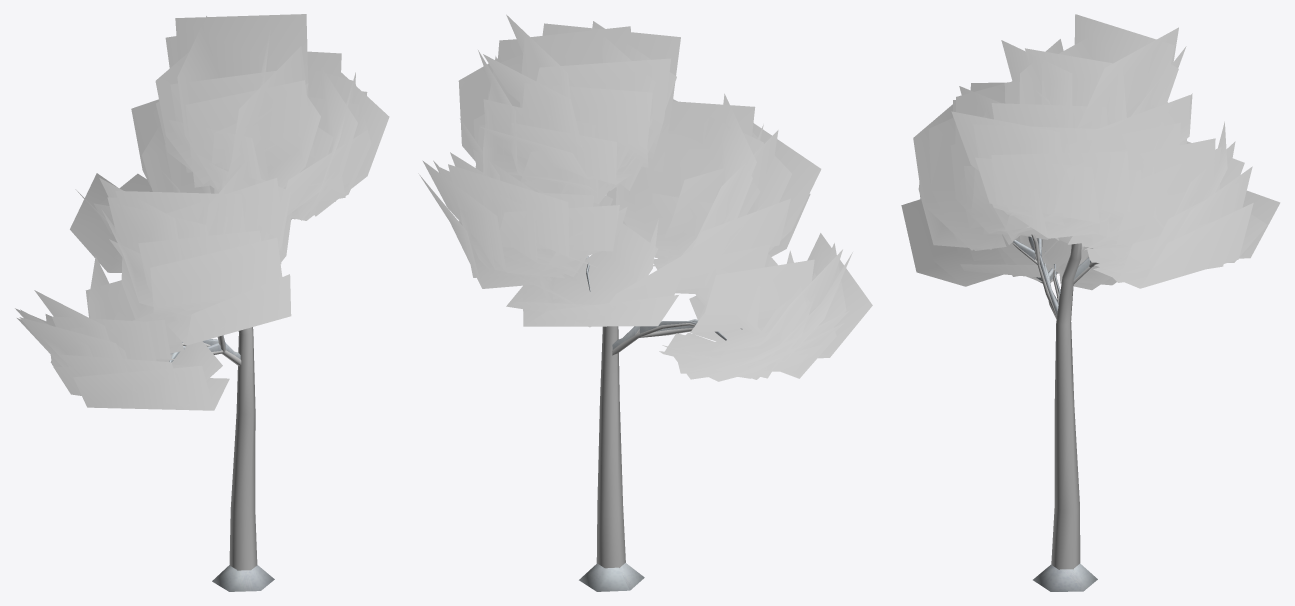
File: Tree_Small_7_Tall_Snow.fbx
3 views of the same model, side by side, from view 1: azimuth 30°, elevation 25°; view 2: azimuth 150°, elevation 25°; view 3: azimuth 270°, elevation 25° (orthographic). The views are drawn at different scales.
Visible parts, largest first — view 1: Tree_Small_7_Snow_LOD0; view 2: Tree_Small_7_Snow_LOD0; view 3: Tree_Small_7_Snow_LOD0.
Boxes of the visible parts, left/top/right/bottom form: Tree_Small_7_Snow_LOD0: left=15, top=14, right=389, bottom=591; Tree_Small_7_Snow_LOD0: left=418, top=14, right=872, bottom=591; Tree_Small_7_Snow_LOD0: left=901, top=14, right=1280, bottom=591.
Size of what is drawn, in the model's own units: 1043 by 1523 by 945.
